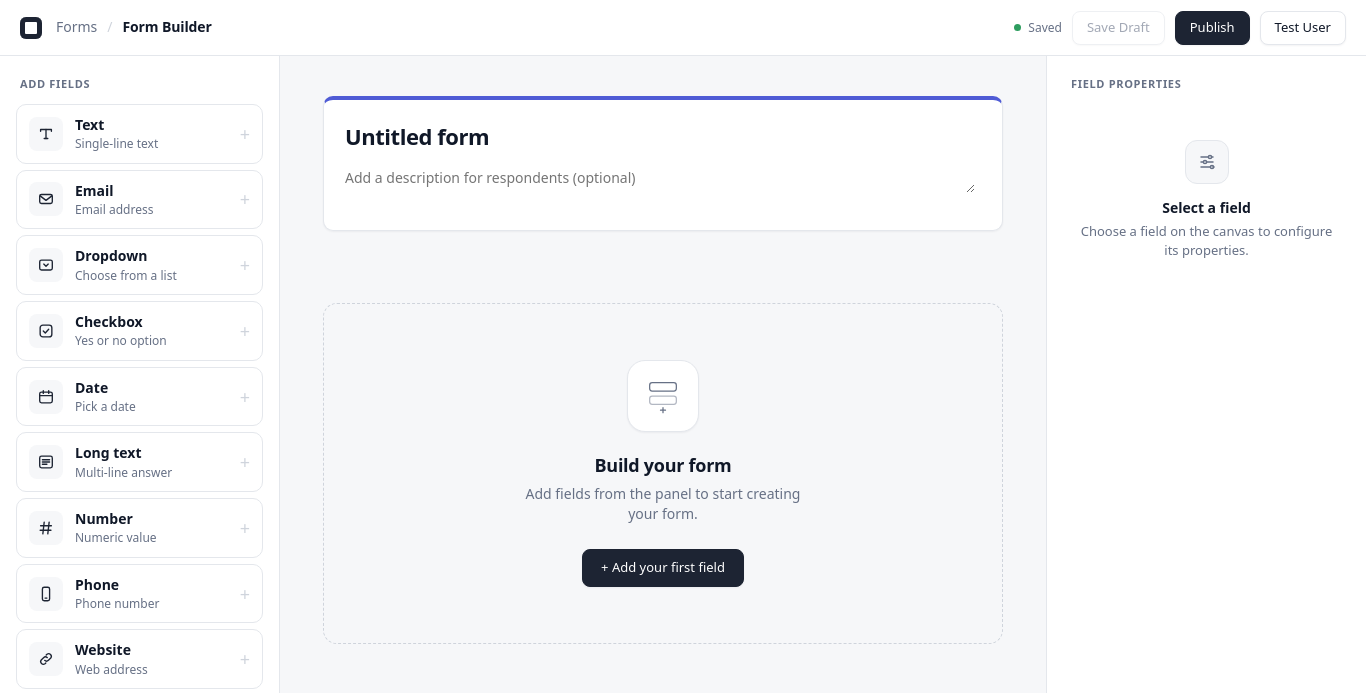
Test: a builder without a form (opened at /) › keeps edits and allows a retry when creating the form fails
Click the button with aria-label "Add Text field" at (140, 134), box top-left (16, 104), bottom-right (263, 164)
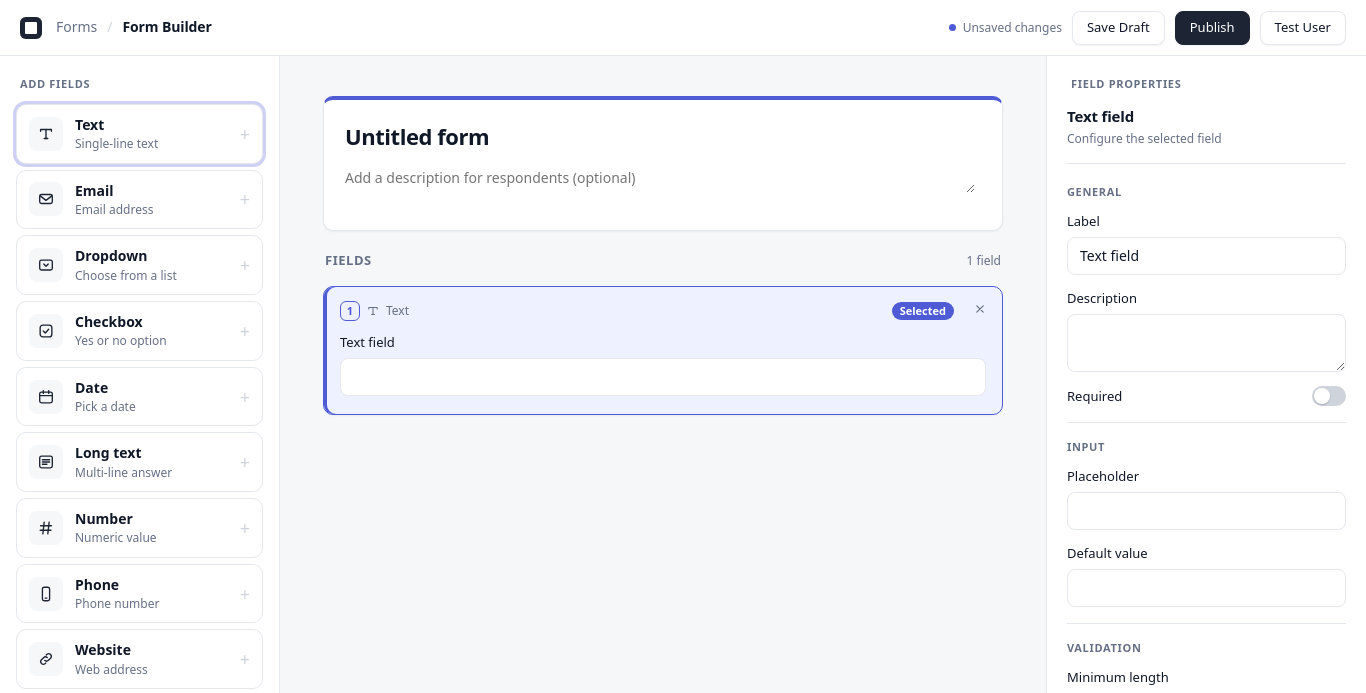
Click the button "Save Draft" at (1118, 28), box top-left (1072, 10), bottom-right (1165, 44)
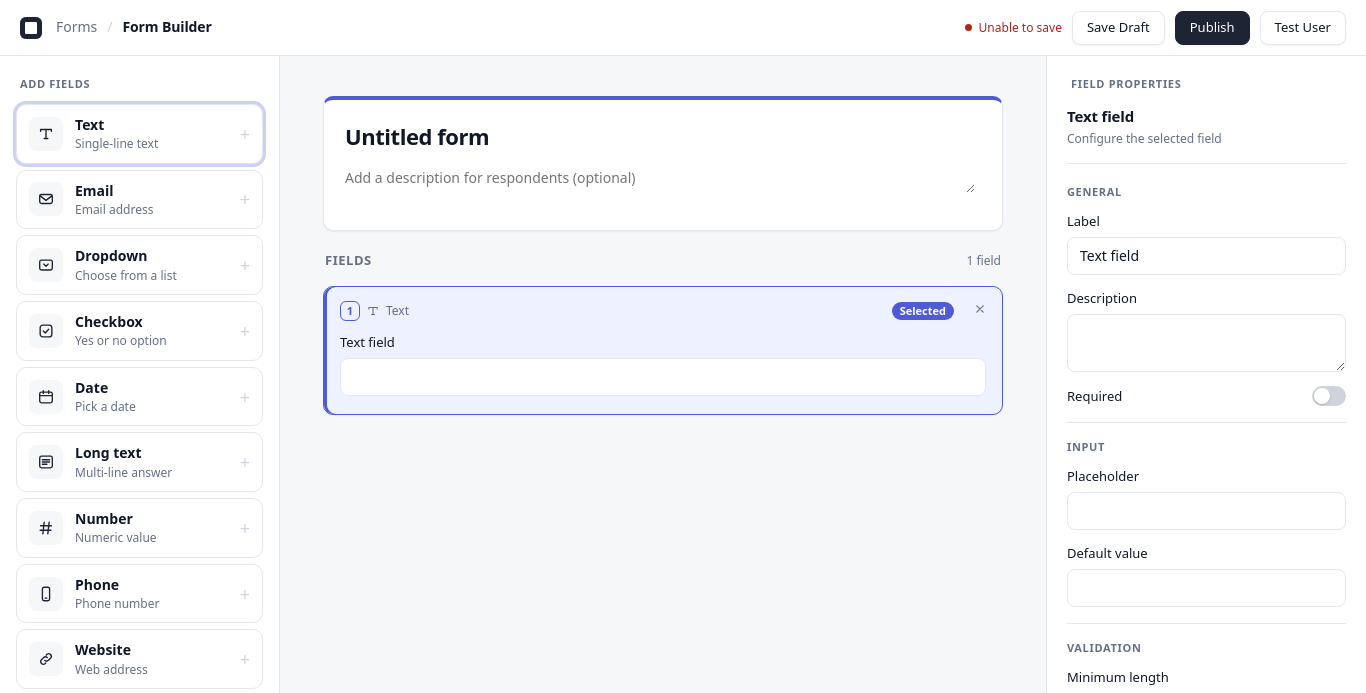
Result: the number of buttons named "Select " is 1 at top-left (324, 287), bottom-right (1002, 414)
Result: the text "Unable to save" is shown at top-left (979, 19), bottom-right (1062, 36)
Result: the text "saved" is gone
Click the button "Save Draft" at (1118, 28), box top-left (1072, 10), bottom-right (1165, 44)
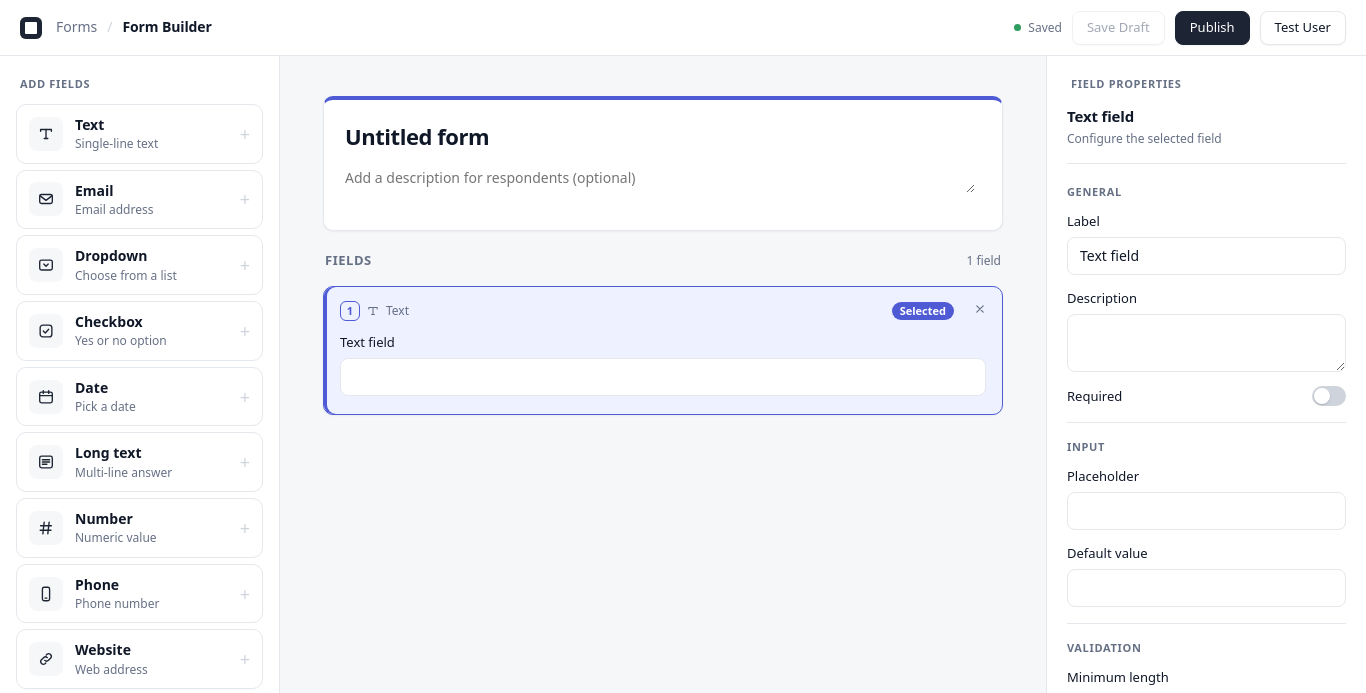
Result: the text "Saved" is shown at top-left (1028, 19), bottom-right (1062, 36)
